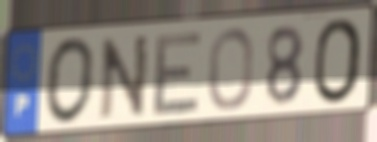8: (265, 23, 304, 108)
E: (150, 27, 205, 119)
N: (98, 31, 152, 123)
O: (43, 35, 98, 128), (313, 15, 364, 106), (206, 25, 256, 113)
